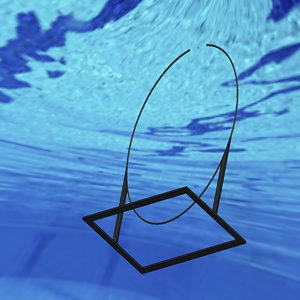circle: (81, 42, 246, 274)
